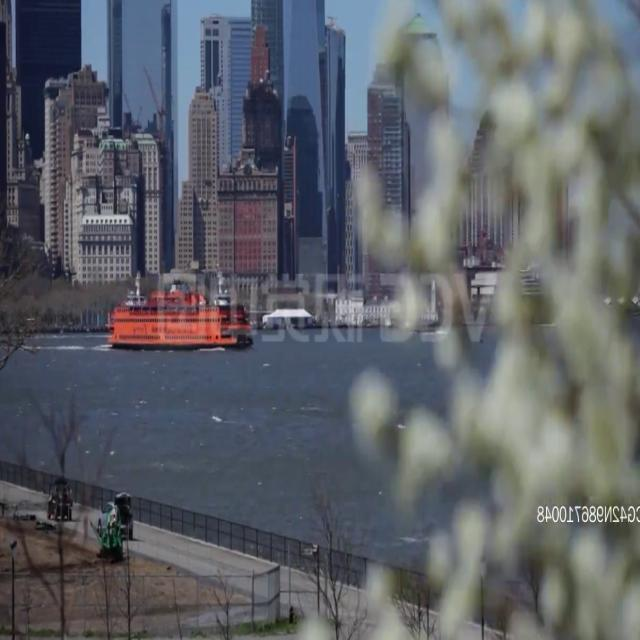passenger ship: (103, 275, 259, 348)
